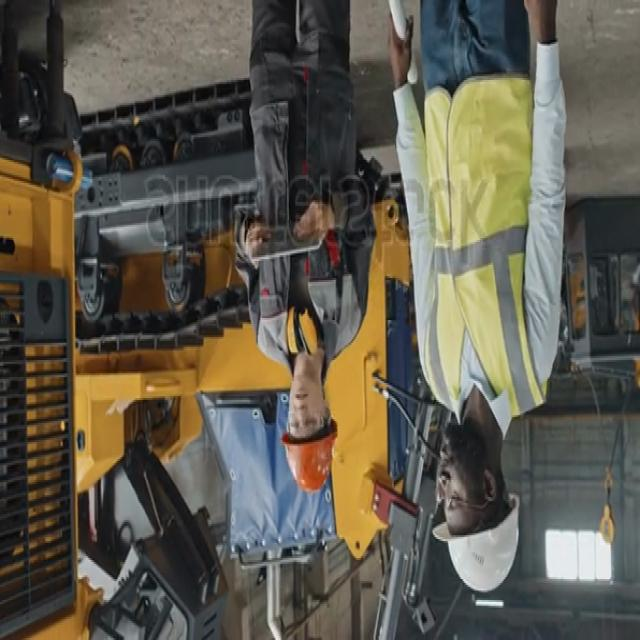goggles: (281, 412, 331, 441), (431, 476, 473, 508)
